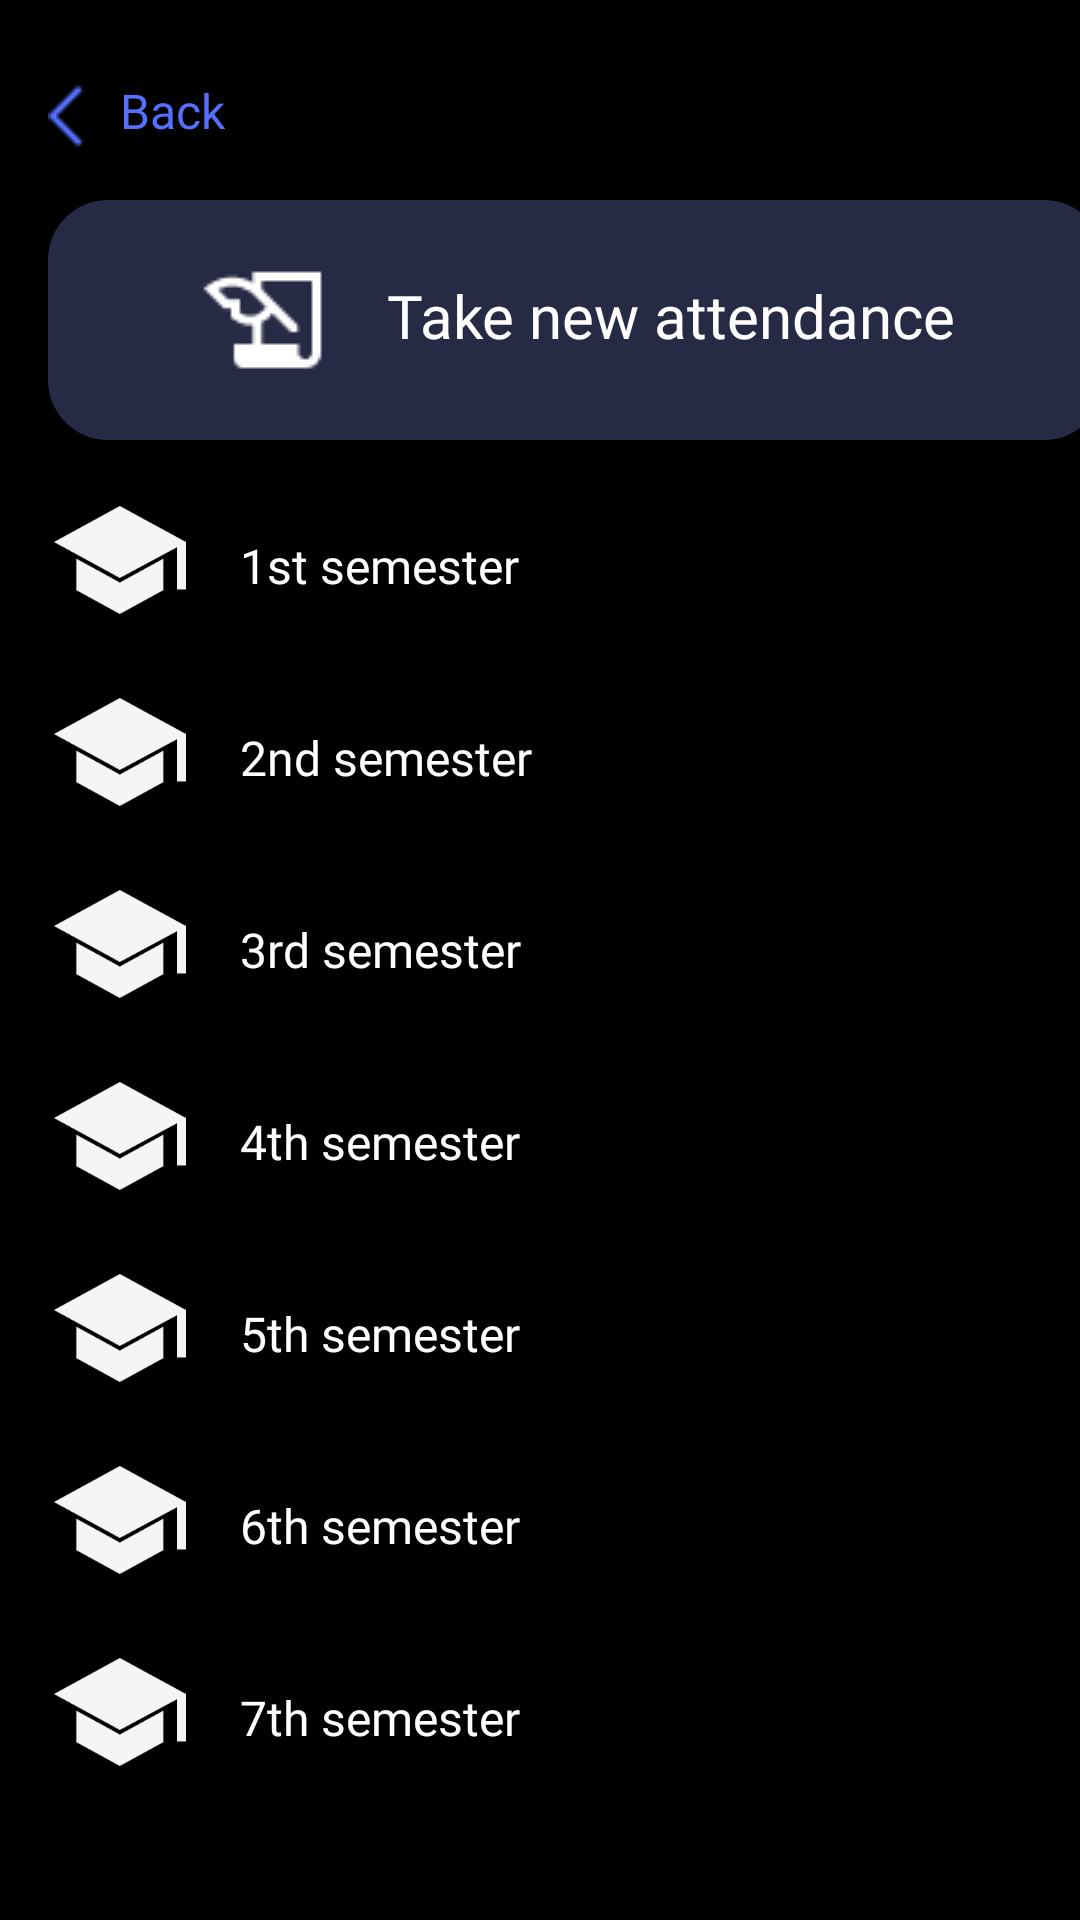

Icon bounding boxes for this 1080px×1920px phone screenshot, format (x1, y1, x2, y2):
school: (54, 506, 186, 614), (54, 698, 186, 806), (54, 890, 186, 998), (54, 1082, 186, 1190), (54, 1274, 186, 1382), (54, 1466, 186, 1574), (54, 1658, 186, 1766)
